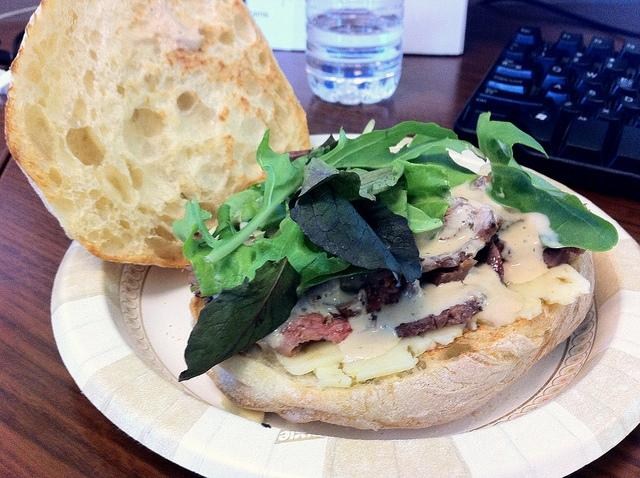lettuce: (477, 111, 619, 253), (180, 256, 302, 381), (194, 127, 304, 264), (290, 180, 423, 285), (242, 197, 351, 296), (376, 158, 454, 234), (296, 157, 394, 202)
